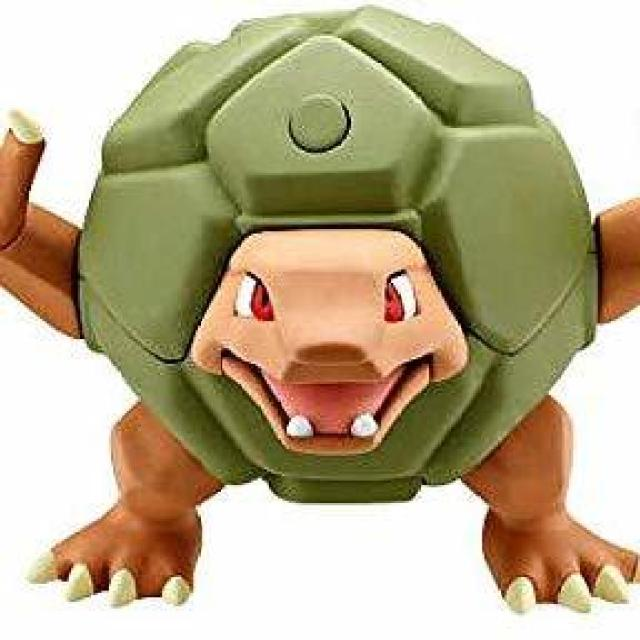Golem: (61, 0, 640, 567)
